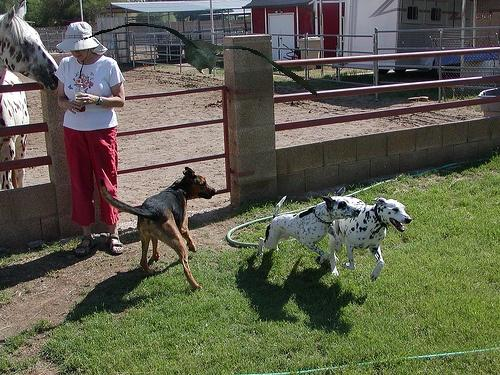tampered: (75, 24, 317, 96)
